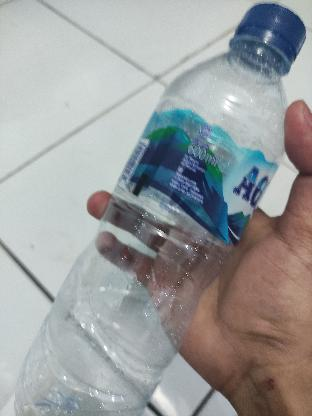Plastic Bottle: (9, 0, 307, 416)
